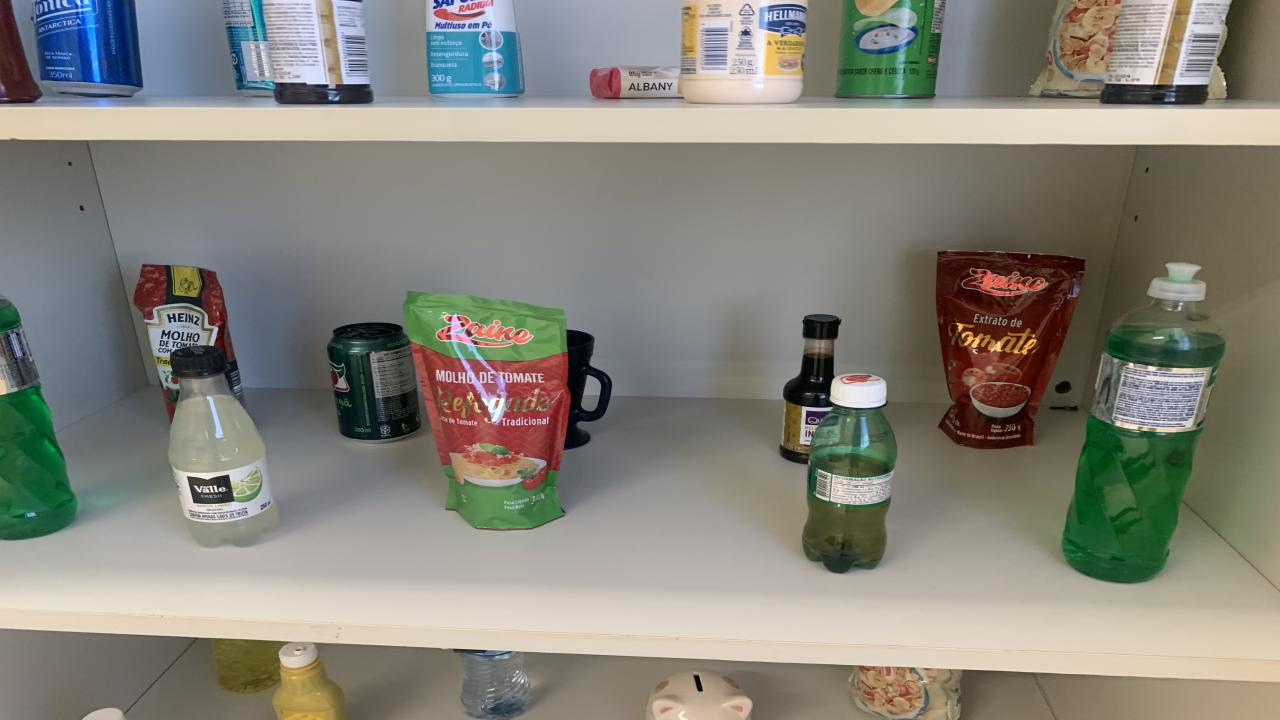Cleaner-Cleanup_Items: (425, 0, 525, 98)
Detergent-Cleanup_Items: (1062, 264, 1225, 583), (0, 296, 78, 540), (210, 638, 280, 694)
English_Sauce-Pantry_Items: (1100, 0, 1230, 105), (262, 0, 372, 103), (780, 315, 840, 463)
Flakes-Snacks: (1030, 0, 1120, 98), (850, 666, 962, 720), (1208, 66, 1228, 99)
Guarana-Drinks: (802, 373, 898, 574)
Guarana_Can-Drinks: (328, 322, 420, 442)
Mayonnaise-Pantry_Items: (680, 0, 808, 103)
Mustard-Pantry_Items: (272, 641, 345, 720)
Pig_Safe-Miscellaneous: (645, 669, 752, 720)
Pringles-Snacks: (835, 0, 945, 98)
Soap-Cleanup_Items: (590, 66, 682, 98)
Soda-Drinks: (168, 345, 278, 548)
Tea-Drinks: (222, 0, 275, 96)
Tomato_Sauce-Pantry_Items: (402, 291, 570, 531), (938, 251, 1085, 448), (132, 264, 242, 418)
Tonic-Drinks: (32, 0, 142, 96)
Water_Bottle-Drinks: (455, 649, 530, 718)
